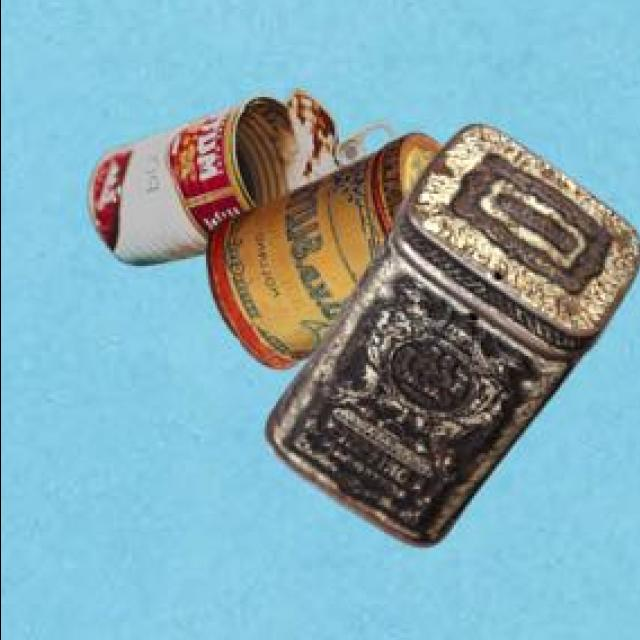logam: (269, 127, 640, 549), (208, 136, 445, 371), (91, 94, 398, 269)
